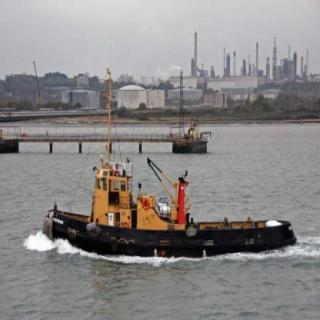Tug Boat: (30, 146, 302, 255)
